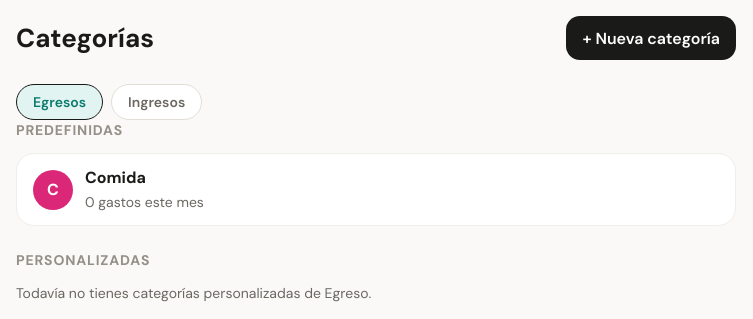
Scenario: CategoriasView › Épica 12 — toggle Egresos/Ingresos (hueco reportado tras la Fase 2 "Caudal") › camino feliz: al tocar el chip "Ingresos", se muestran las categorías de tipo ingreso y se ocultan las de gasto
Click the tab with class "chip-tipo" showing "Ingresos": x=157, y=102 111,84 -> 202,120
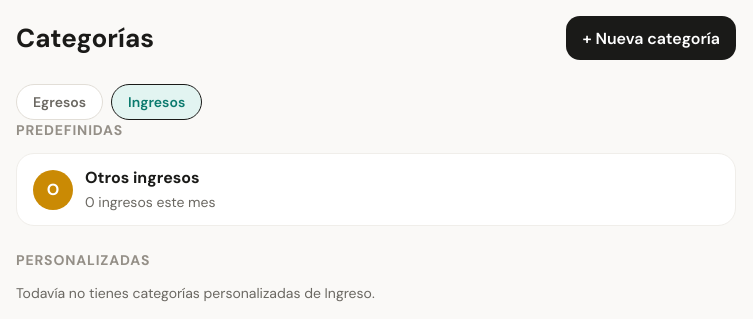
Check: the text "Otros ingresos" is shown, box 85,167 -> 200,188
Check: the text "Comida" is gone
